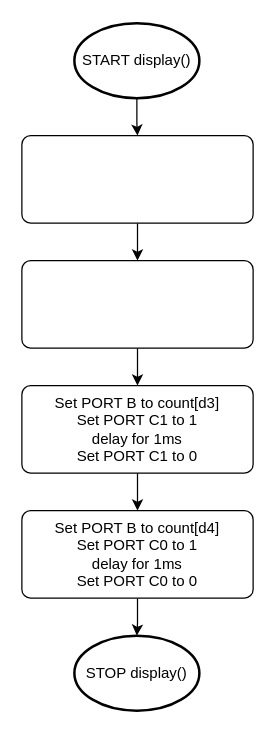
Some shapes in this 275 by 733 pixel diagram are drawn without their labels. Here are the shapes that lost their labels. From the top down, the centre of each, then its label:
At point 137,178: "Set PORT B to count[d1] Set PORT C3 to 1 delay for 1ms Set PORT C3 to 0".
At point 137,303: "Set PORT B to count[d2] Set PORT C3 to 1 delay for 1ms Set PORT C3 to 0".
